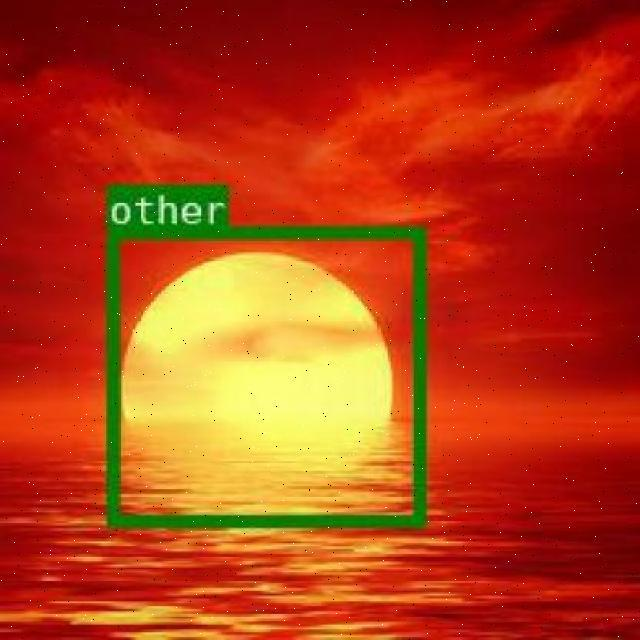other: (104, 226, 424, 523)
